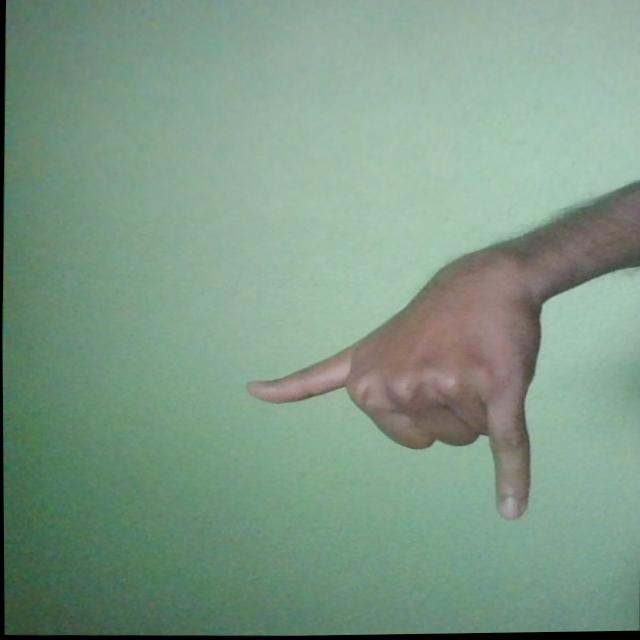Call Me: (240, 237, 545, 523)
